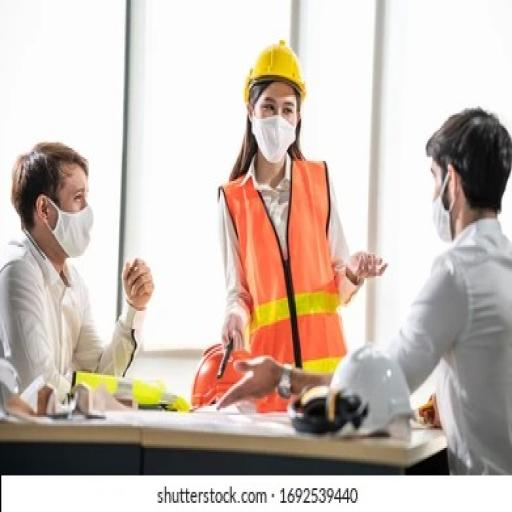mask: (59, 202, 102, 268), (253, 118, 303, 166)
